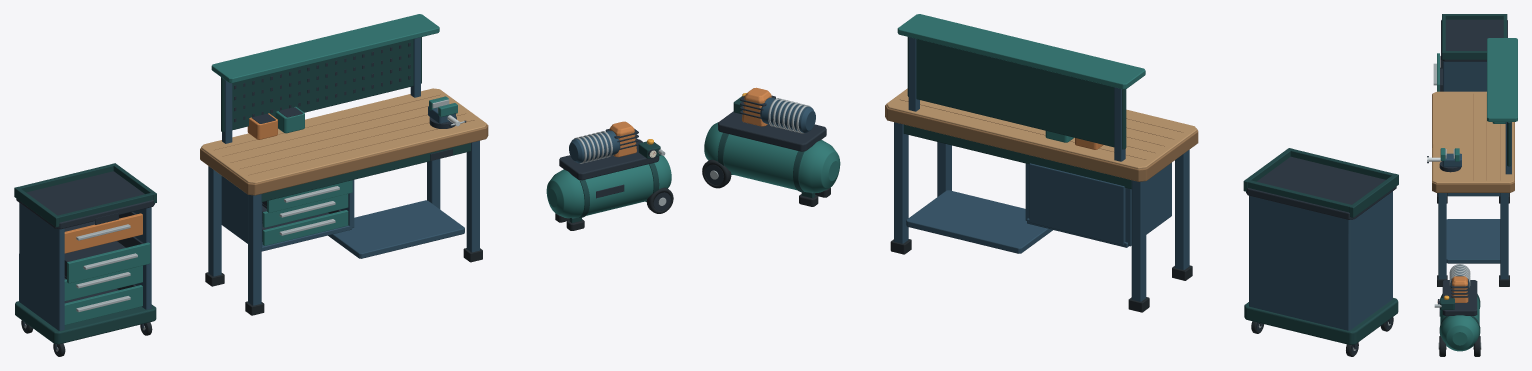
The model's file is workshop-props.glb.
The picture shows the model from 3 angles, left to right: view 1: azimuth 30°, elevation 25°; view 2: azimuth 150°, elevation 25°; view 3: azimuth 270°, elevation 25°; orthographic projection. The views are drawn at different scales.
Parts seen in each view (by area): view 1: WorkshopBench, WorkshopCart, WorkshopCompressor; view 2: WorkshopBench, WorkshopCart, WorkshopCompressor; view 3: WorkshopBench, WorkshopCart, WorkshopCompressor.
Boxes of the visible parts, x1,y1,x2,y2 form: WorkshopBench: [200, 14, 488, 315]; WorkshopCart: [14, 163, 156, 356]; WorkshopCompressor: [546, 121, 673, 230]; WorkshopBench: [885, 14, 1198, 312]; WorkshopCart: [1243, 148, 1398, 356]; WorkshopCompressor: [702, 87, 840, 206]; WorkshopBench: [1427, 38, 1517, 286]; WorkshopCart: [1433, 14, 1507, 91]; WorkshopCompressor: [1434, 264, 1481, 356].
Size of the model in its own units: 4.61 by 1.49 by 0.7451.
